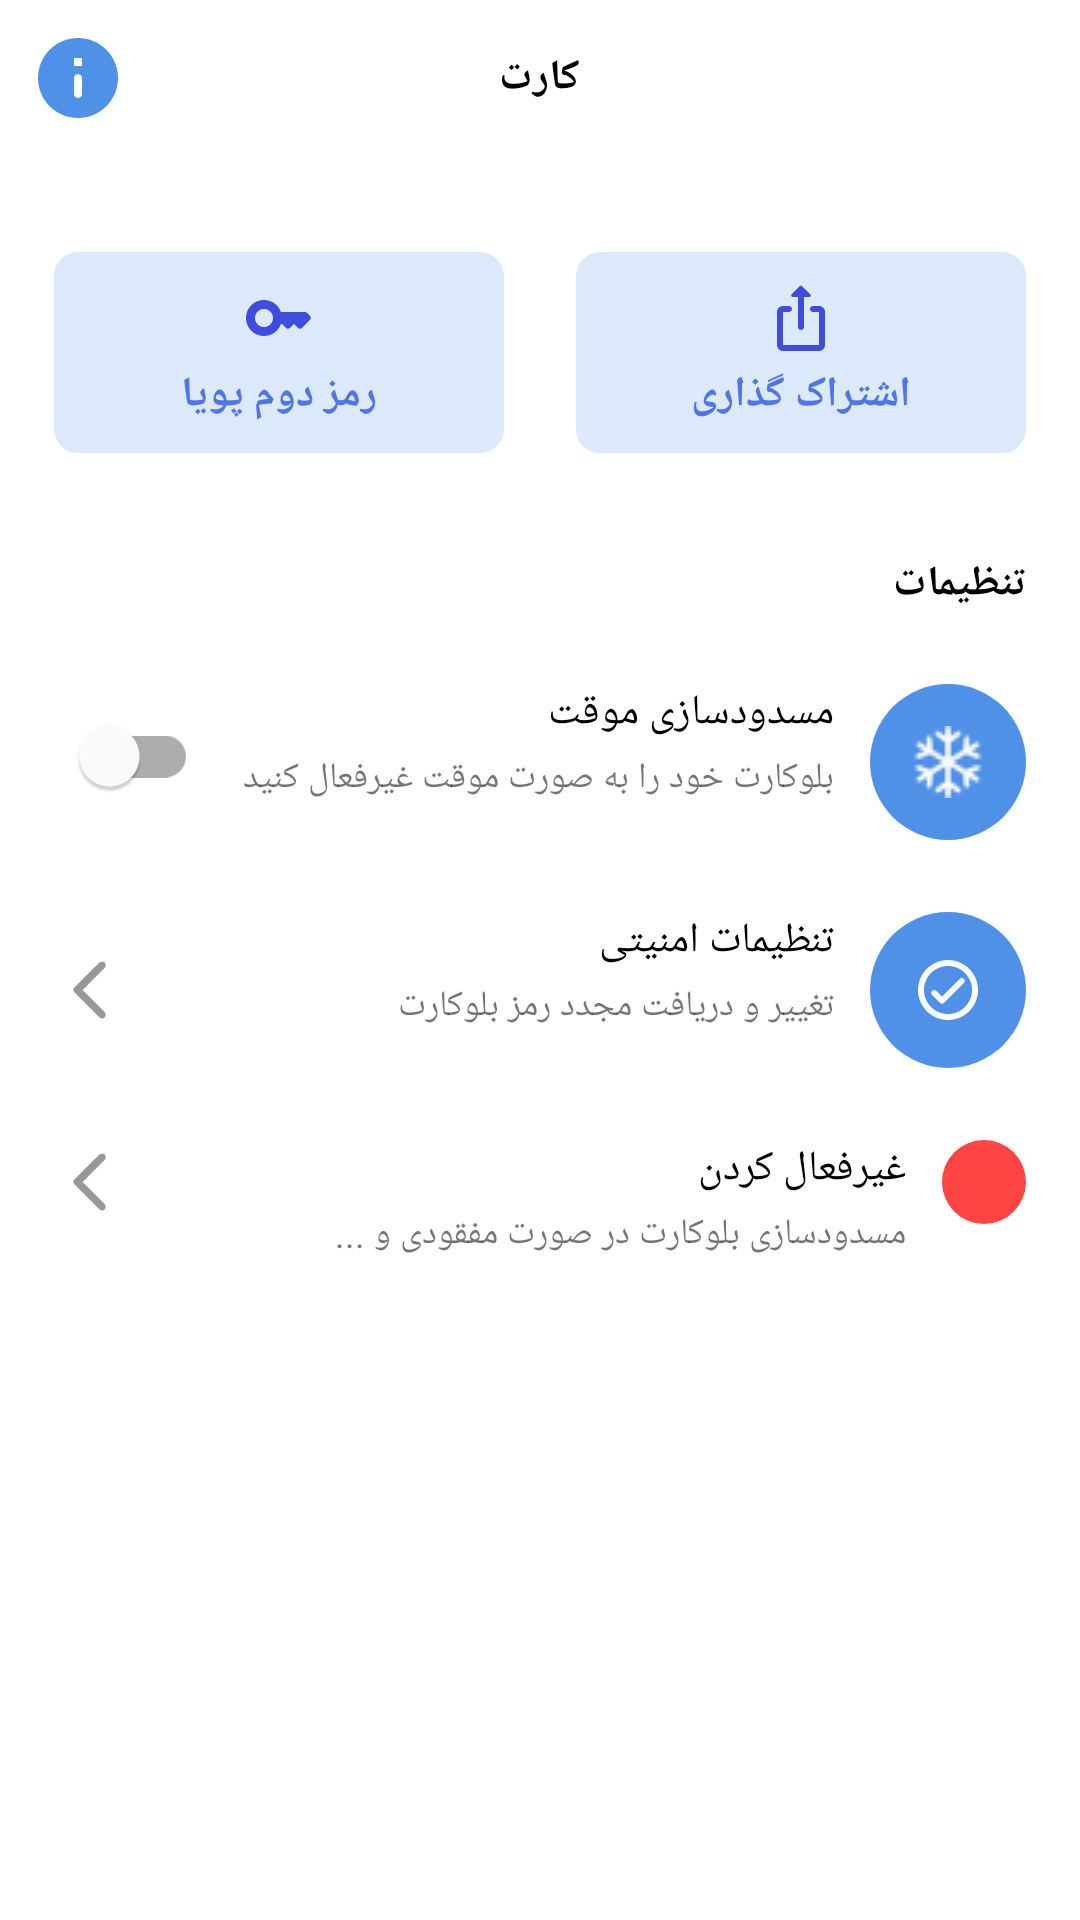

Where to tap for icons on this 1080×1920 app screen, as (x,y):
arrow setting: (89,990), (89,1182)
check card: (948,990)
info: (78,78)
key card: (278,318)
snow: (948,762)
